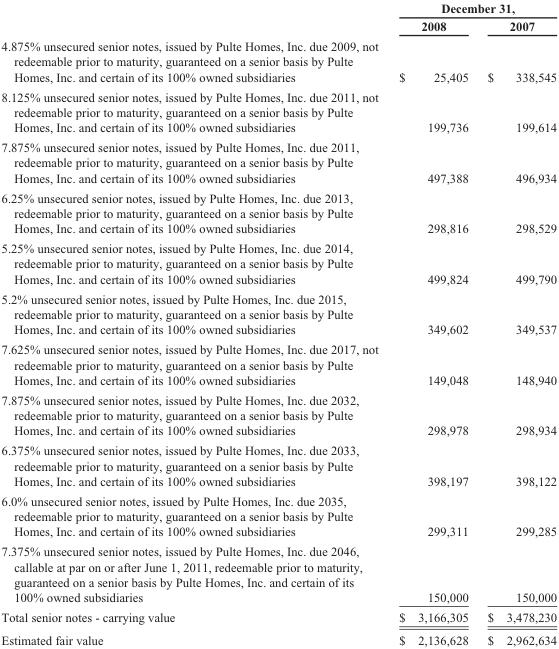table: (0, 1, 556, 646)
table column: (0, 1, 387, 646), (387, 1, 477, 646), (477, 1, 556, 646)
table column header: (0, 1, 556, 36)
table row: (0, 541, 556, 606), (0, 86, 556, 137), (0, 187, 556, 238), (0, 288, 556, 339), (0, 389, 556, 440), (0, 490, 556, 541), (0, 36, 556, 86), (0, 137, 556, 187), (0, 238, 556, 288), (0, 339, 556, 389), (0, 440, 556, 490), (0, 606, 556, 628), (0, 17, 556, 36), (0, 628, 556, 646), (0, 1, 556, 17)
table spanning cell: (387, 1, 556, 17)
